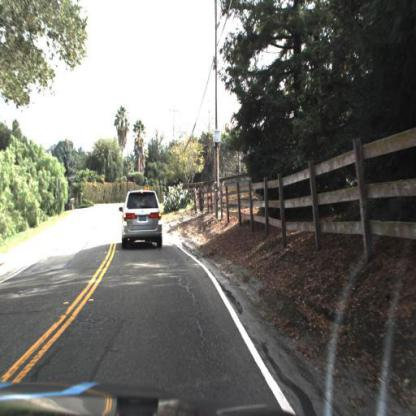car: (116, 171, 177, 263)
